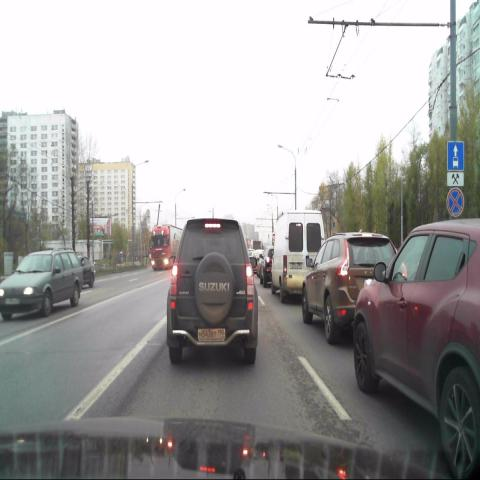5_14: (447, 141, 464, 171)
8_5_2: (446, 173, 464, 186)
